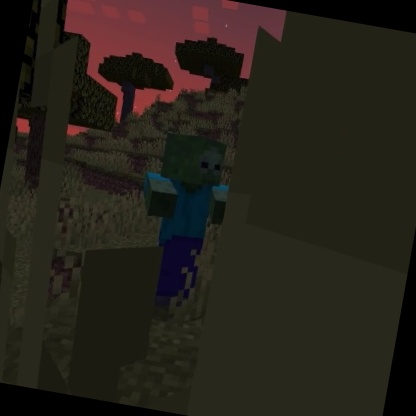zombie: (118, 125, 240, 320)
